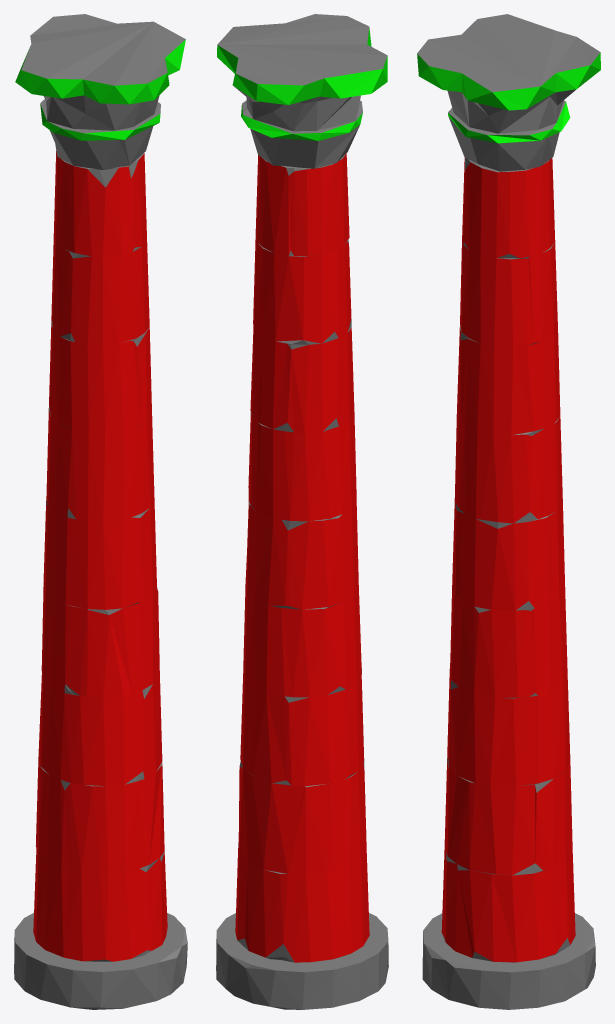
The model's file is PillarCylinderTall03.fbx.
The picture shows the model from 3 angles, left to right: view 1: azimuth 30°, elevation 25°; view 2: azimuth 150°, elevation 25°; view 3: azimuth 270°, elevation 25°; orthographic projection.
Parts seen in each view (by area): view 1: PillarCylinderTall03; view 2: PillarCylinderTall03; view 3: PillarCylinderTall03.
Boxes of the visible parts, x1,y1,x2,y2 form: PillarCylinderTall03: [14, 14, 187, 1009]; PillarCylinderTall03: [216, 14, 388, 1009]; PillarCylinderTall03: [417, 14, 600, 1009].
Size of the model in its own units: 207 by 1150 by 208.
